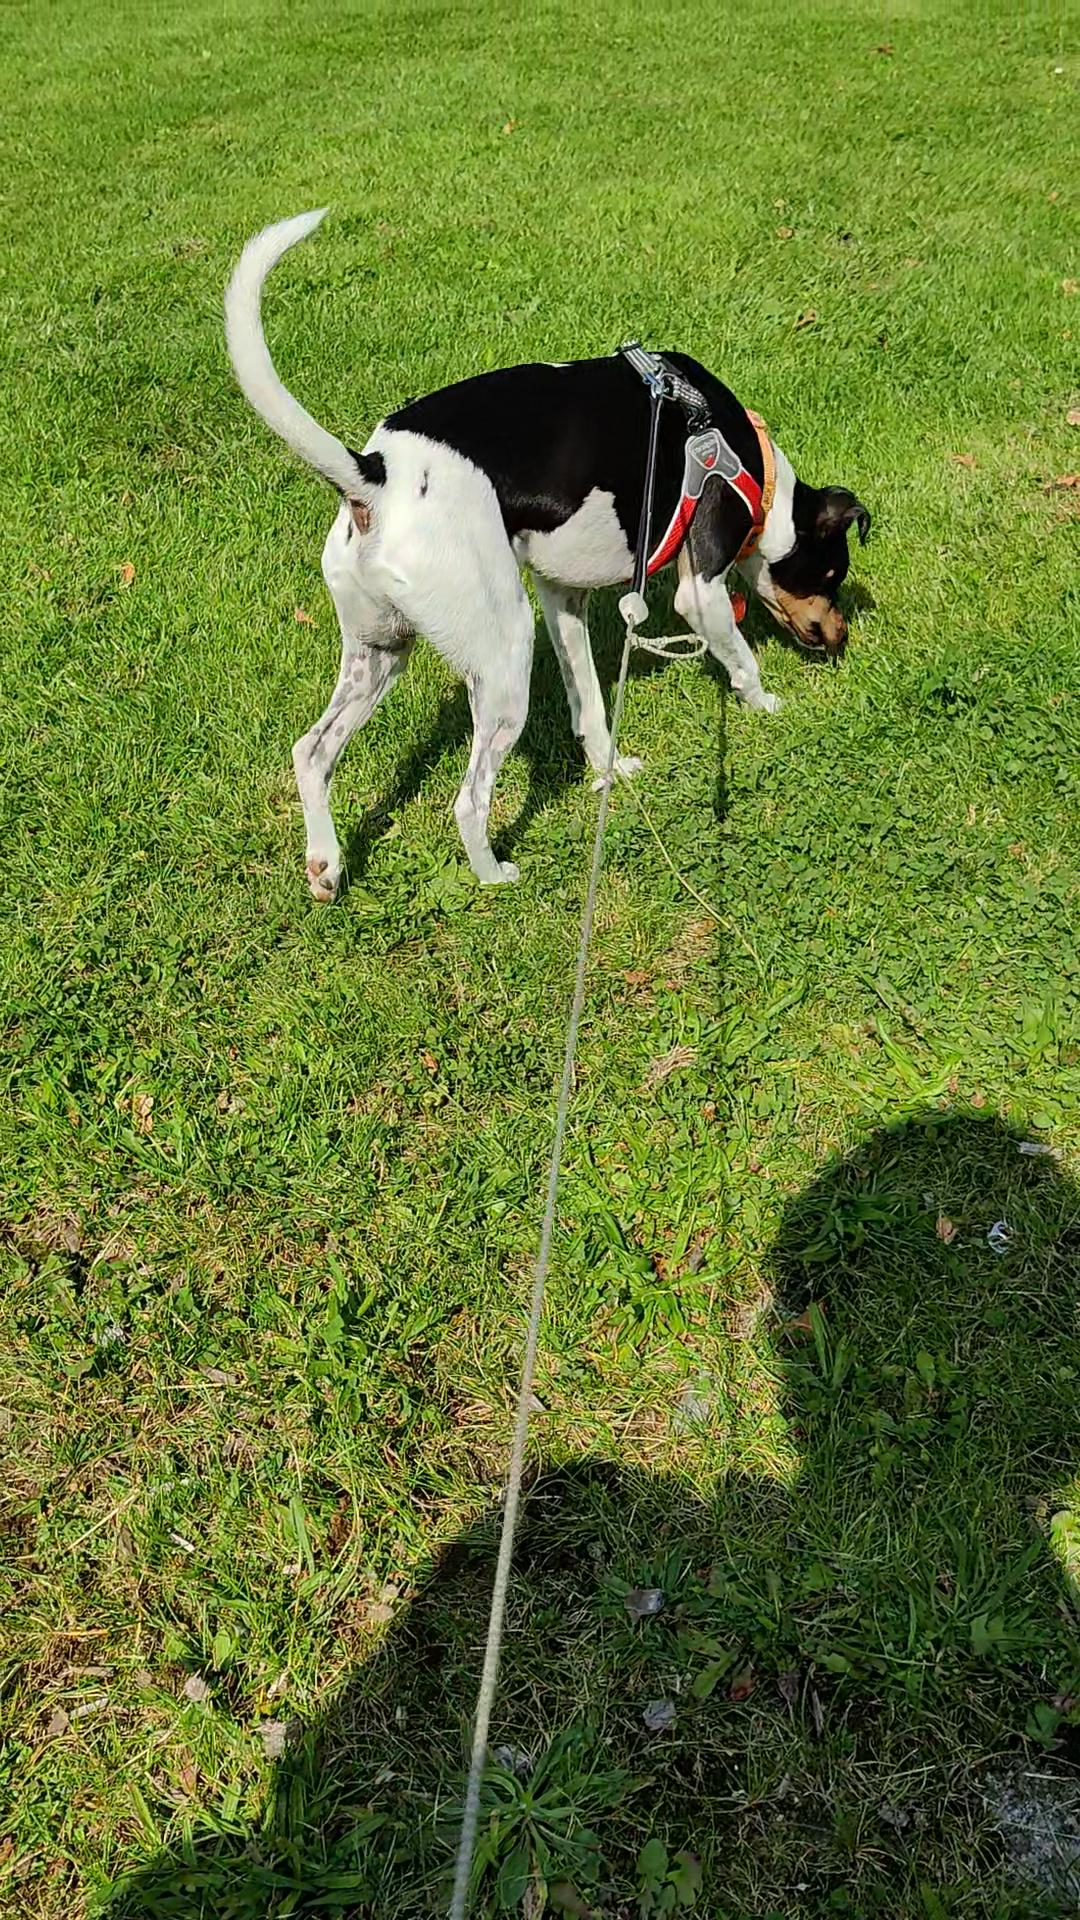Dog: (185, 183, 902, 903)
